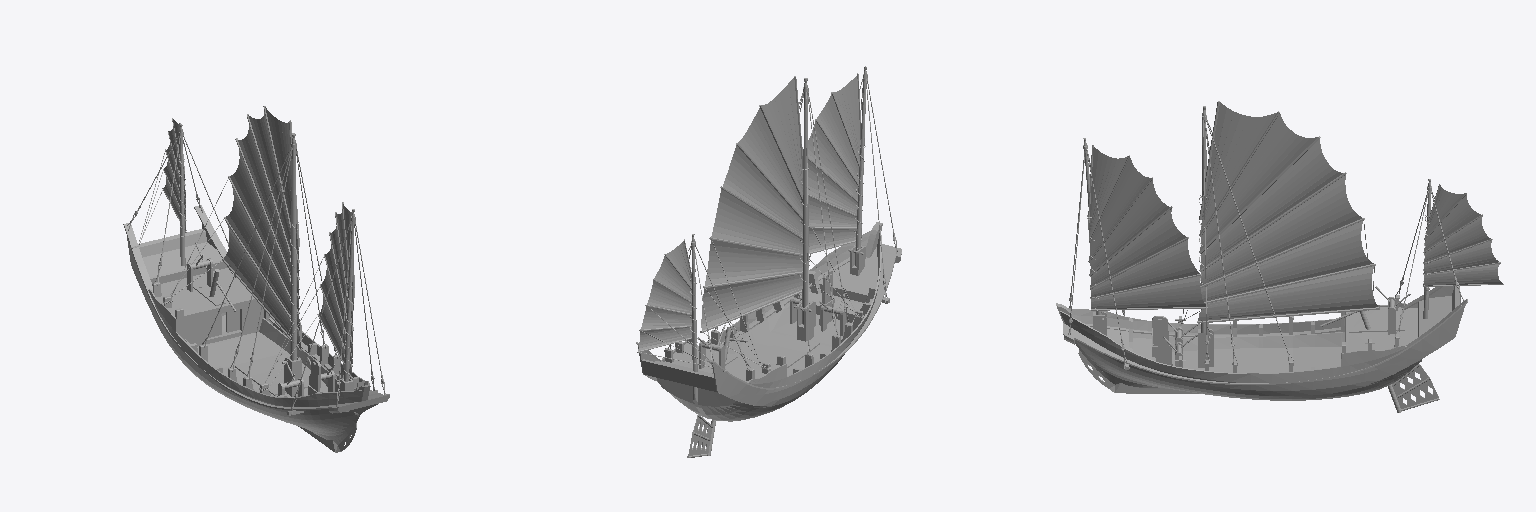
File: SZPOMH9F4RZGN7GBKE8SM1V32.obj
3 renders of one model, left to right at view 1: azimuth 30°, elevation 25°; view 2: azimuth 150°, elevation 25°; view 3: azimuth 270°, elevation 25°, orthographic.
Parts seen in each view (by area): view 1: Object_059noyerf.jpg, Object_voile.jpg, Object_040izombe.jpg, Object_pont.jpg, Object_corde.jpg; view 2: Object_voile.jpg, Object_059noyerf.jpg, Object_040izombe.jpg, Object_pont.jpg, Object_corde.jpg; view 3: Object_voile.jpg, Object_059noyerf.jpg, Object_040izombe.jpg, Object_pont.jpg, Object_corde.jpg.
Boxes of the visible parts, x1=… form: Object_059noyerf.jpg: x1=123, y1=196, x2=389, y2=452; Object_voile.jpg: x1=163, y1=107, x2=353, y2=375; Object_040izombe.jpg: x1=152, y1=106, x2=364, y2=397; Object_pont.jpg: x1=156, y1=268, x2=327, y2=397; Object_corde.jpg: x1=127, y1=132, x2=385, y2=415; Object_voile.jpg: x1=638, y1=76, x2=860, y2=350; Object_059noyerf.jpg: x1=636, y1=222, x2=901, y2=421; Object_040izombe.jpg: x1=637, y1=66, x2=875, y2=457; Object_pont.jpg: x1=665, y1=254, x2=873, y2=381; Object_corde.jpg: x1=638, y1=74, x2=897, y2=371; Object_voile.jpg: x1=1089, y1=102, x2=1502, y2=320; Object_059noyerf.jpg: x1=1056, y1=281, x2=1467, y2=400; Object_040izombe.jpg: x1=1083, y1=101, x2=1503, y2=412; Object_pont.jpg: x1=1091, y1=307, x2=1417, y2=371; Object_corde.jpg: x1=1066, y1=115, x2=1465, y2=369.
Bounding box in the file's own units: 0.6713 × 1.93 × 2.5.